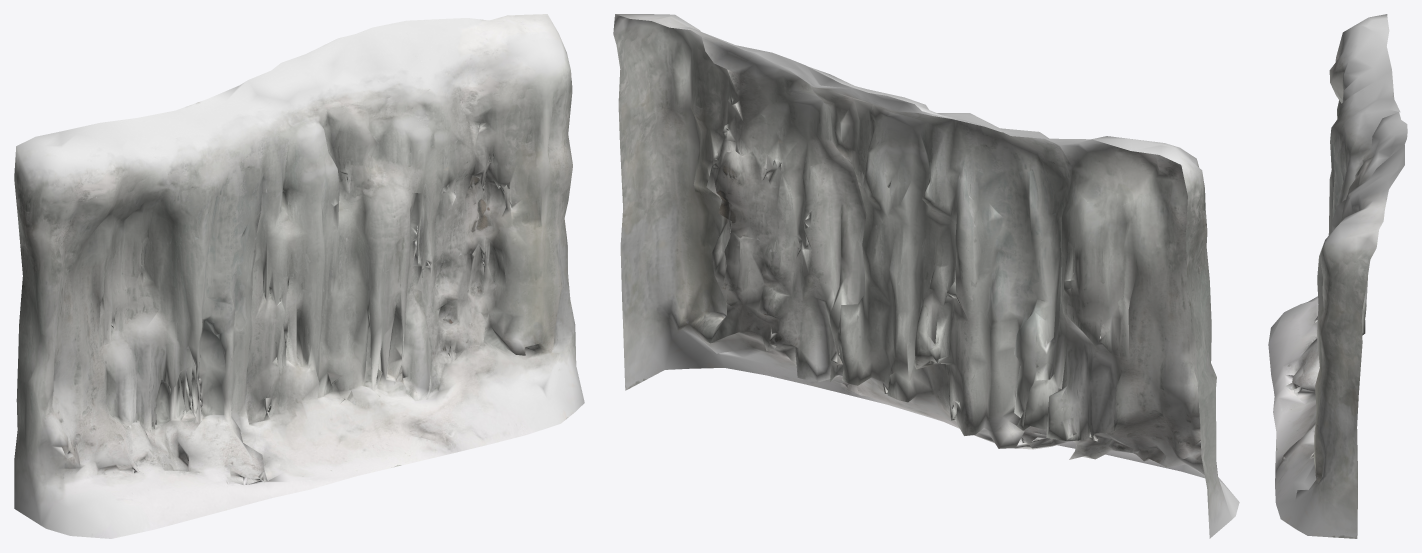
File: Ice_Cliff_3.obj
The picture shows the model from 3 angles, left to right: view 1: azimuth 30°, elevation 25°; view 2: azimuth 150°, elevation 25°; view 3: azimuth 270°, elevation 25°; orthographic projection. The views are drawn at different scales.
Parts seen in each view (by area): view 1: uhpocesfa_LOD0_TIER3_000; view 2: uhpocesfa_LOD0_TIER3_000; view 3: uhpocesfa_LOD0_TIER3_000.
Boxes of the visible parts, x1,y1,x2,y2 form: uhpocesfa_LOD0_TIER3_000: [14, 14, 584, 538]; uhpocesfa_LOD0_TIER3_000: [613, 14, 1239, 538]; uhpocesfa_LOD0_TIER3_000: [1268, 14, 1407, 538].
Size of the model in its own units: 6.88 by 4.47 by 1.75.
1 material, 1 textured.
